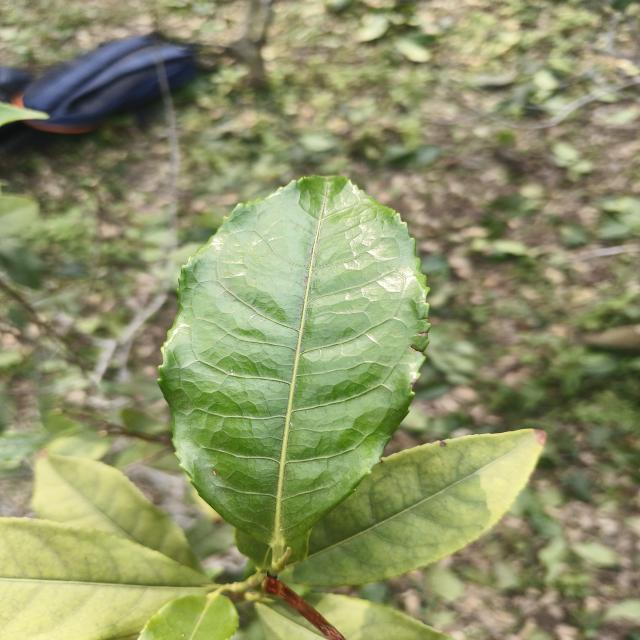Leaf: (161, 177, 428, 551), (283, 429, 546, 587), (0, 518, 213, 640), (32, 453, 201, 571), (308, 594, 452, 640), (139, 593, 238, 640), (256, 602, 325, 640)
